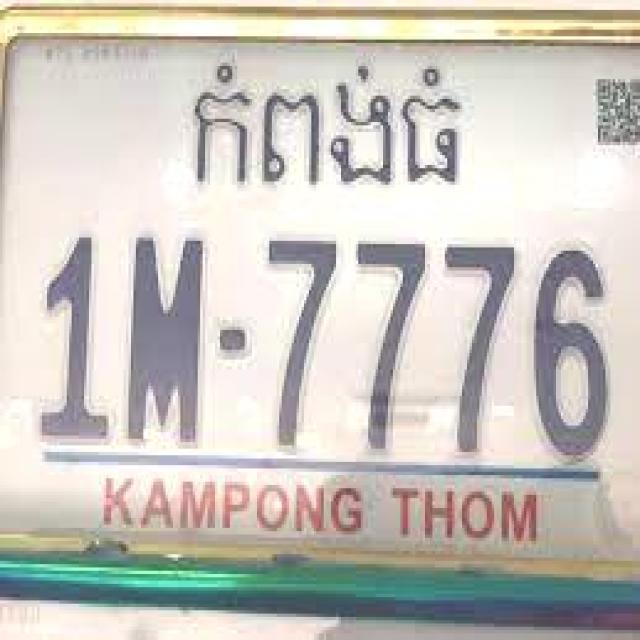Kampong_Thom: (189, 51, 469, 200)
